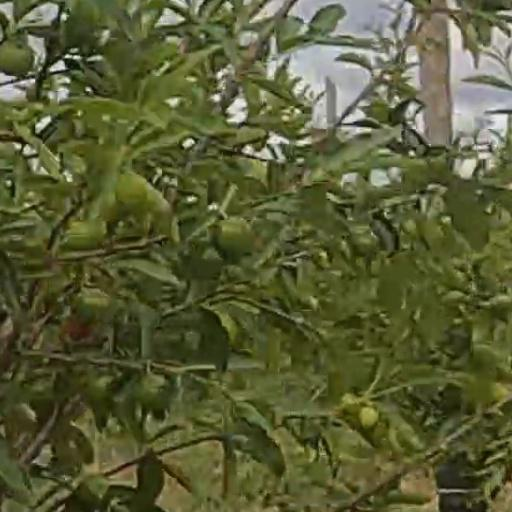acerola: (218, 220, 252, 257), (3, 38, 31, 75), (119, 173, 147, 210)
